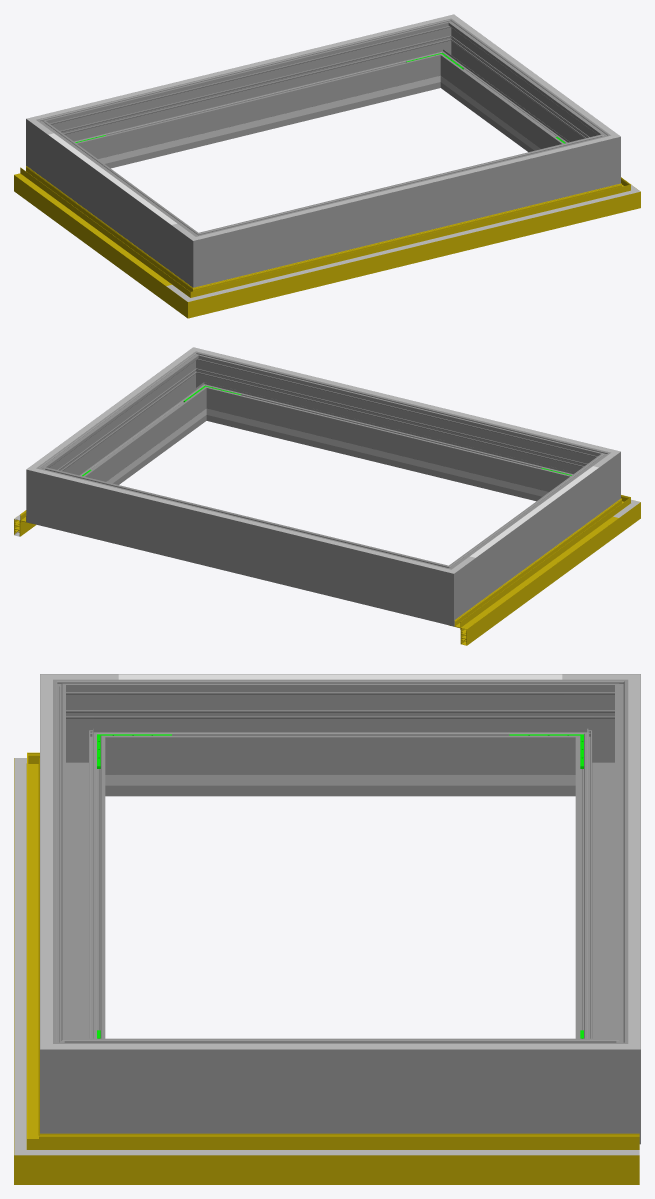
3 renders of one model, top to bottom at view 1: azimuth 30°, elevation 25°; view 2: azimuth 150°, elevation 25°; view 3: azimuth 270°, elevation 25°, orthographic. The views are drawn at different scales.
Parts seen in each view (by area): view 1: 3DGeom-276, 3DGeom-298, 3DGeom-90, 3DGeom-297, 3DGeom-268, 3DGeom-85, 3DGeom-270, 3DGeom-290, 3DGeom-244, 3DGeom-284, 3DGeom-278, 3DGeom-86 (+8 smaller); view 2: 3DGeom-298, 3DGeom-276, 3DGeom-297, 3DGeom-268, 3DGeom-85, 3DGeom-278, 3DGeom-284, 3DGeom-239, 3DGeom-290, 3DGeom-270, 3DGeom-304, 3DGeom-316 (+5 smaller); view 3: 3DGeom-268, 3DGeom-297, 3DGeom-97, 3DGeom-276, 3DGeom-298, 3DGeom-284, 3DGeom-290, 3DGeom-278, 3DGeom-270, 3DGeom-90, 3DGeom-100, 3DGeom-304 (+13 smaller).
Boxes of the visible parts, bbox=[...] form: 3DGeom-276: bbox=[67, 26, 434, 168]; 3DGeom-298: bbox=[224, 140, 583, 278]; 3DGeom-90: bbox=[218, 189, 603, 309]; 3DGeom-297: bbox=[444, 32, 597, 152]; 3DGeom-268: bbox=[48, 131, 183, 271]; 3DGeom-85: bbox=[14, 166, 178, 302]; 3DGeom-270: bbox=[171, 222, 230, 287]; 3DGeom-290: bbox=[576, 122, 620, 192]; 3DGeom-244: bbox=[112, 84, 404, 161]; 3DGeom-284: bbox=[420, 14, 471, 90]; 3DGeom-278: bbox=[26, 112, 81, 181]; 3DGeom-86: bbox=[166, 277, 225, 318]; 3DGeom-298: bbox=[213, 359, 579, 501]; 3DGeom-276: bbox=[64, 473, 422, 617]; 3DGeom-297: bbox=[50, 363, 202, 484]; 3DGeom-268: bbox=[463, 464, 599, 604]; 3DGeom-85: bbox=[449, 509, 619, 645]; 3DGeom-278: bbox=[416, 555, 475, 626]; 3DGeom-284: bbox=[26, 455, 70, 531]; 3DGeom-239: bbox=[243, 417, 534, 494]; 3DGeom-290: bbox=[176, 351, 227, 422]; 3DGeom-270: bbox=[565, 445, 620, 513]; 3DGeom-304: bbox=[64, 476, 419, 564]; 3DGeom-316: bbox=[228, 356, 582, 444]; 3DGeom-268: bbox=[118, 674, 562, 796]; 3DGeom-297: bbox=[118, 1038, 562, 1133]; 3DGeom-97: bbox=[92, 1133, 639, 1184]; 3DGeom-276: bbox=[575, 707, 640, 1038]; 3DGeom-298: bbox=[40, 707, 105, 1038]; 3DGeom-284: bbox=[562, 1016, 640, 1144]; 3DGeom-290: bbox=[40, 1016, 118, 1133]; 3DGeom-278: bbox=[562, 674, 640, 796]; 3DGeom-270: bbox=[40, 674, 118, 796]; 3DGeom-90: bbox=[14, 780, 39, 1121]; 3DGeom-100: bbox=[14, 791, 26, 1121]; 3DGeom-304: bbox=[628, 707, 640, 1016].
Size of the model in its own units: 1.83 by 0.2667 by 1.22.
